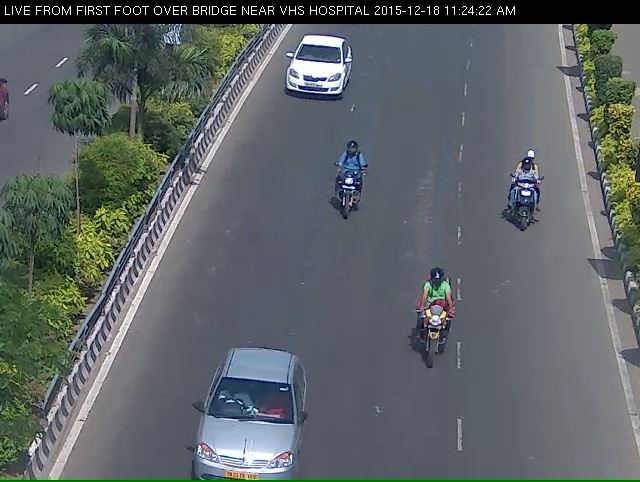Car: (179, 359, 300, 478), (276, 34, 352, 113)
Person: (414, 284, 461, 391), (506, 153, 550, 249), (328, 152, 368, 236)
